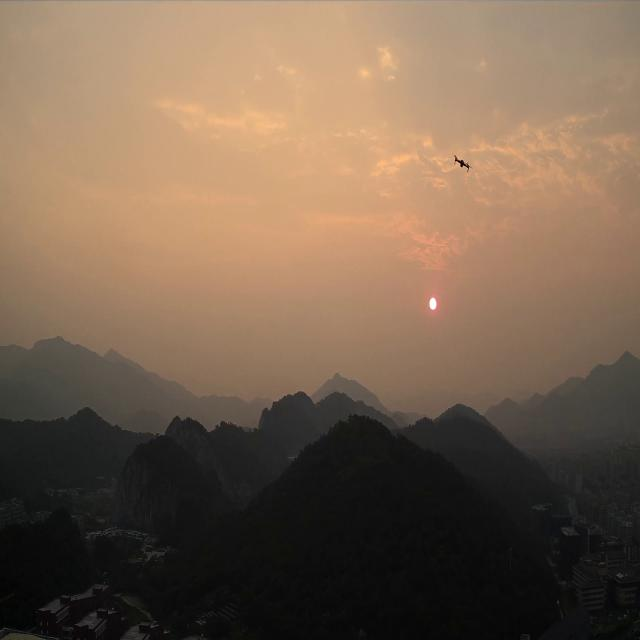drone: (453, 155, 472, 172)
